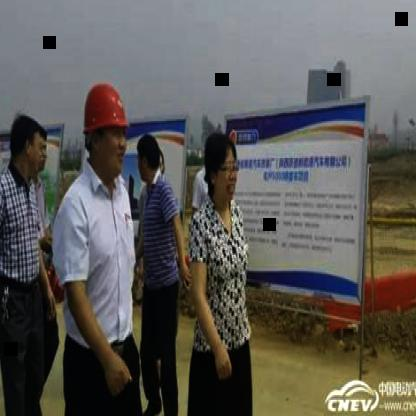head: (203, 131, 245, 214), (12, 110, 42, 184), (134, 131, 162, 190), (34, 126, 50, 176)
helmet: (81, 80, 132, 180)
